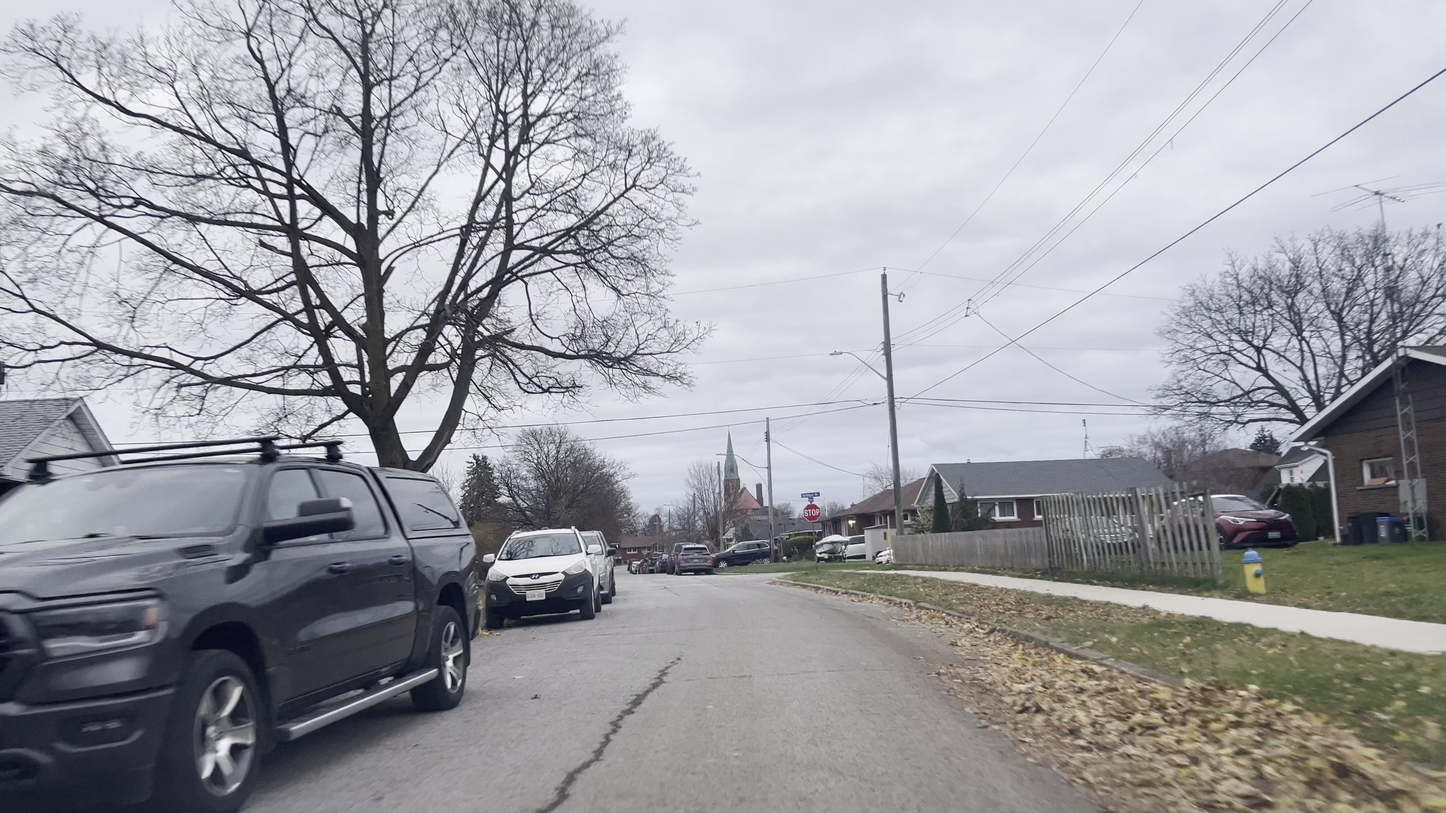cracks: (525, 738, 608, 804), (612, 666, 672, 722)
